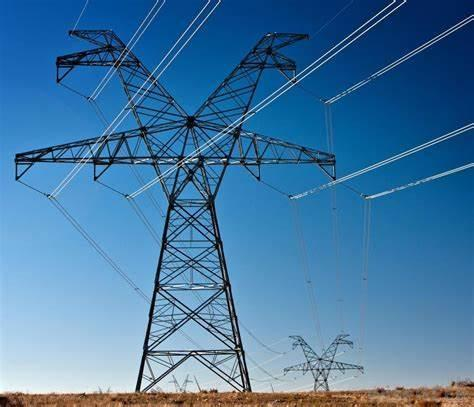power_tower: (14, 25, 338, 389), (282, 327, 365, 392)
